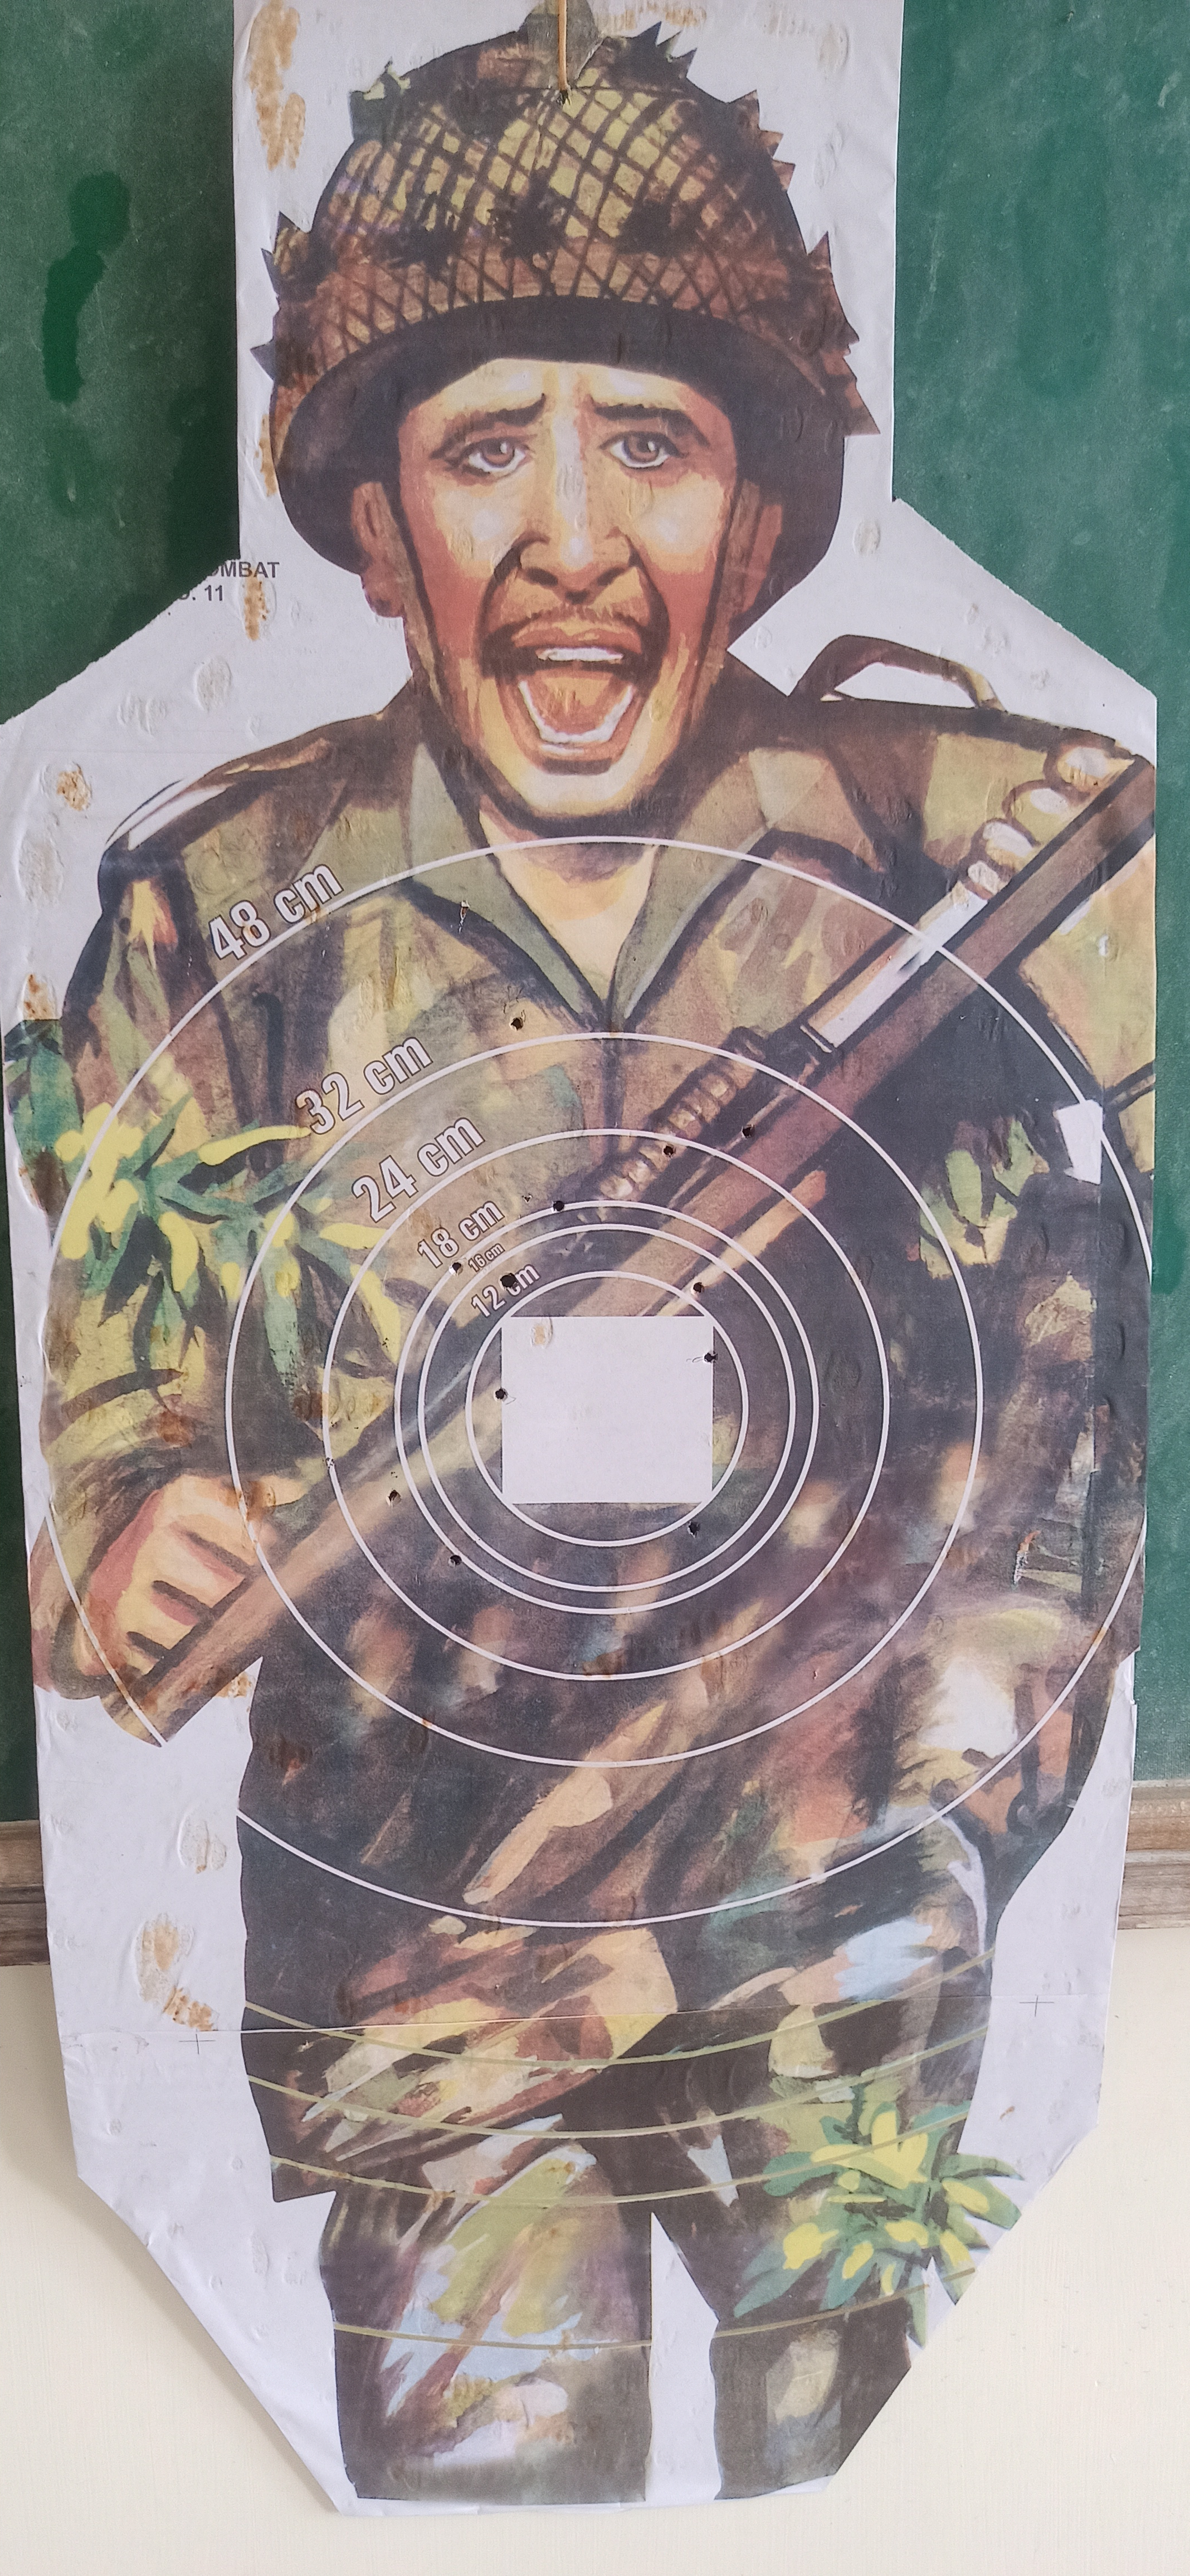bullet hit: (735, 1119, 759, 1145), (549, 1191, 574, 1216), (444, 1548, 465, 1574), (495, 1270, 521, 1291), (689, 1275, 710, 1298), (684, 1518, 707, 1538), (383, 1488, 406, 1508), (700, 1347, 718, 1368), (508, 1015, 528, 1033), (661, 1140, 677, 1161), (493, 1385, 510, 1405), (450, 1260, 467, 1277)
white box: (498, 1313, 717, 1508)
